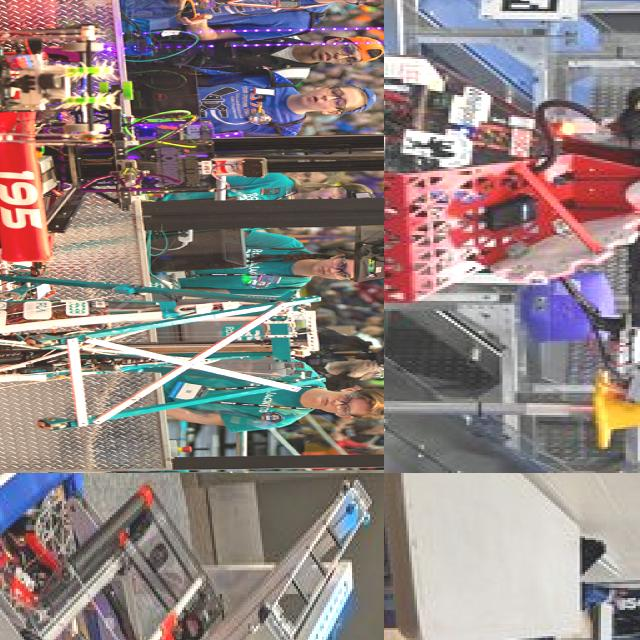FRC-Robots: (384, 0, 640, 375), (0, 473, 384, 640), (0, 17, 248, 270), (0, 264, 334, 436), (0, 0, 129, 203)
